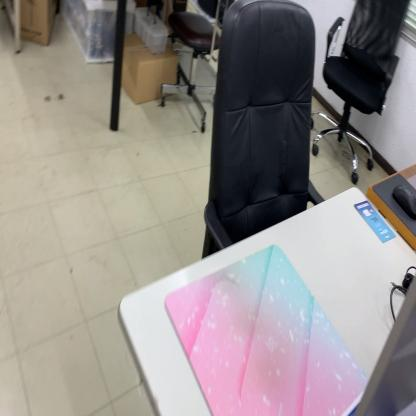chair: (203, 1, 334, 264), (312, 0, 414, 186)
